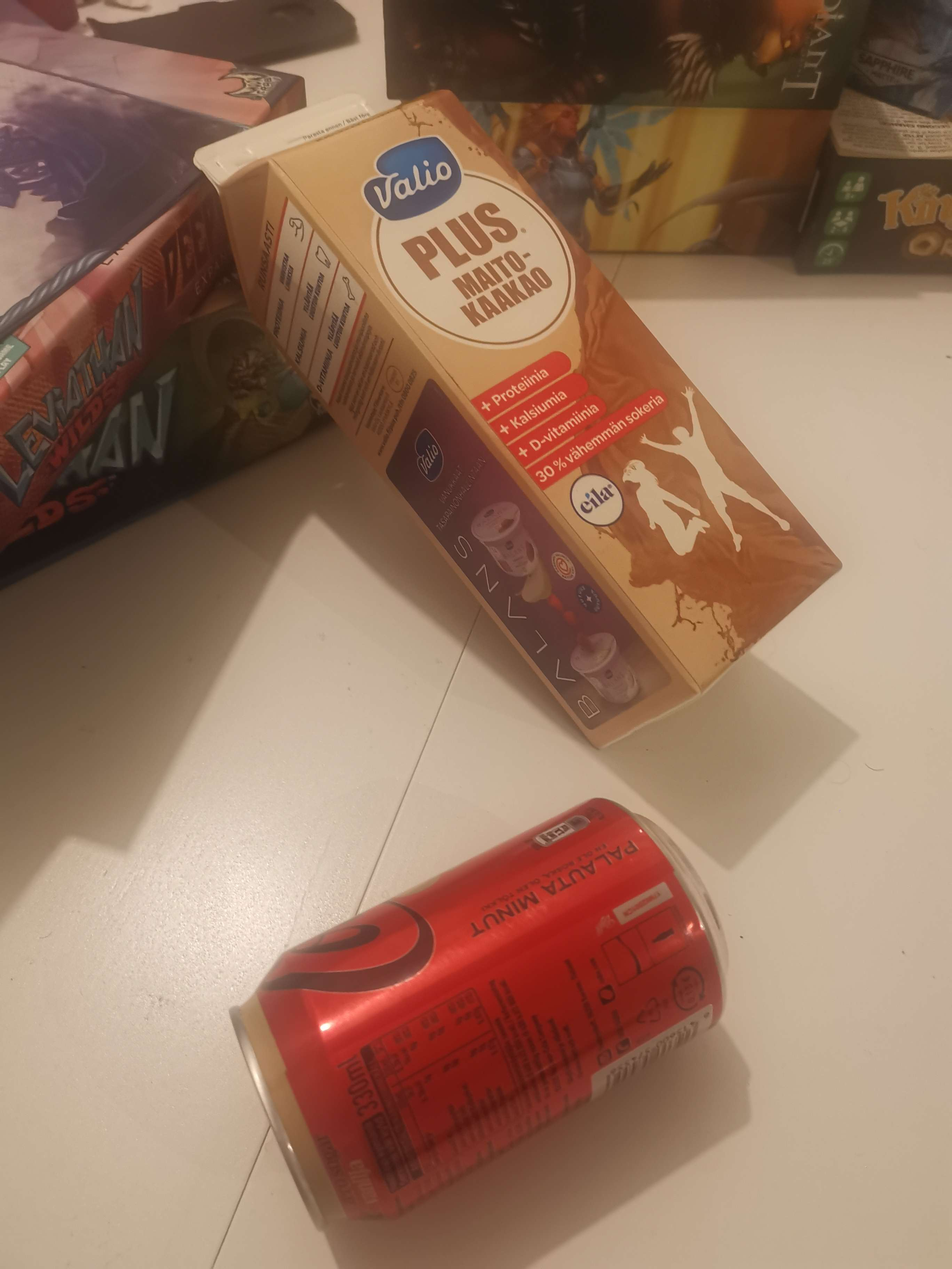Pantburk: (193, 88, 844, 751), (226, 797, 731, 1229)
